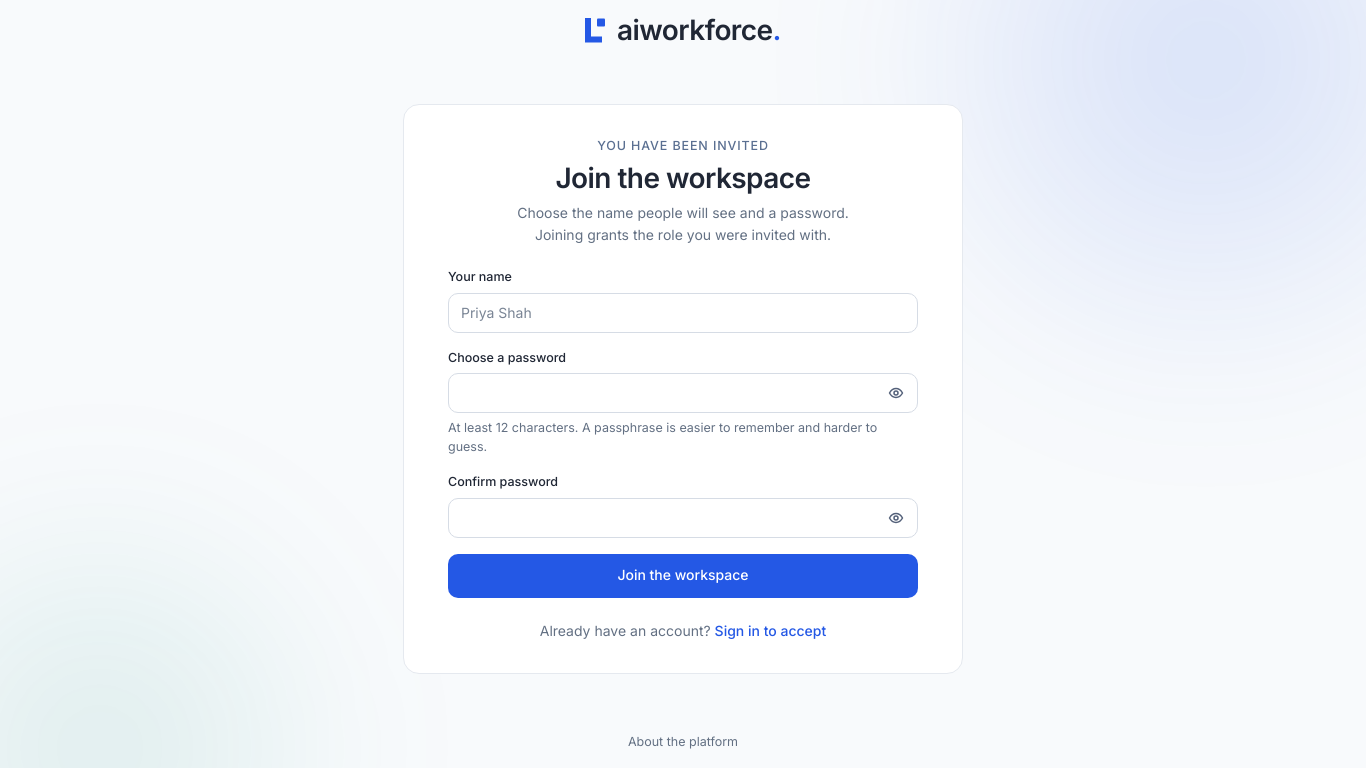
it: AcceptInvite › shows the withdrawn message for a revoked invitation
Type "Rita Returning" into the field labelled "Your name" at point(683, 312), box [448,292,918,332]
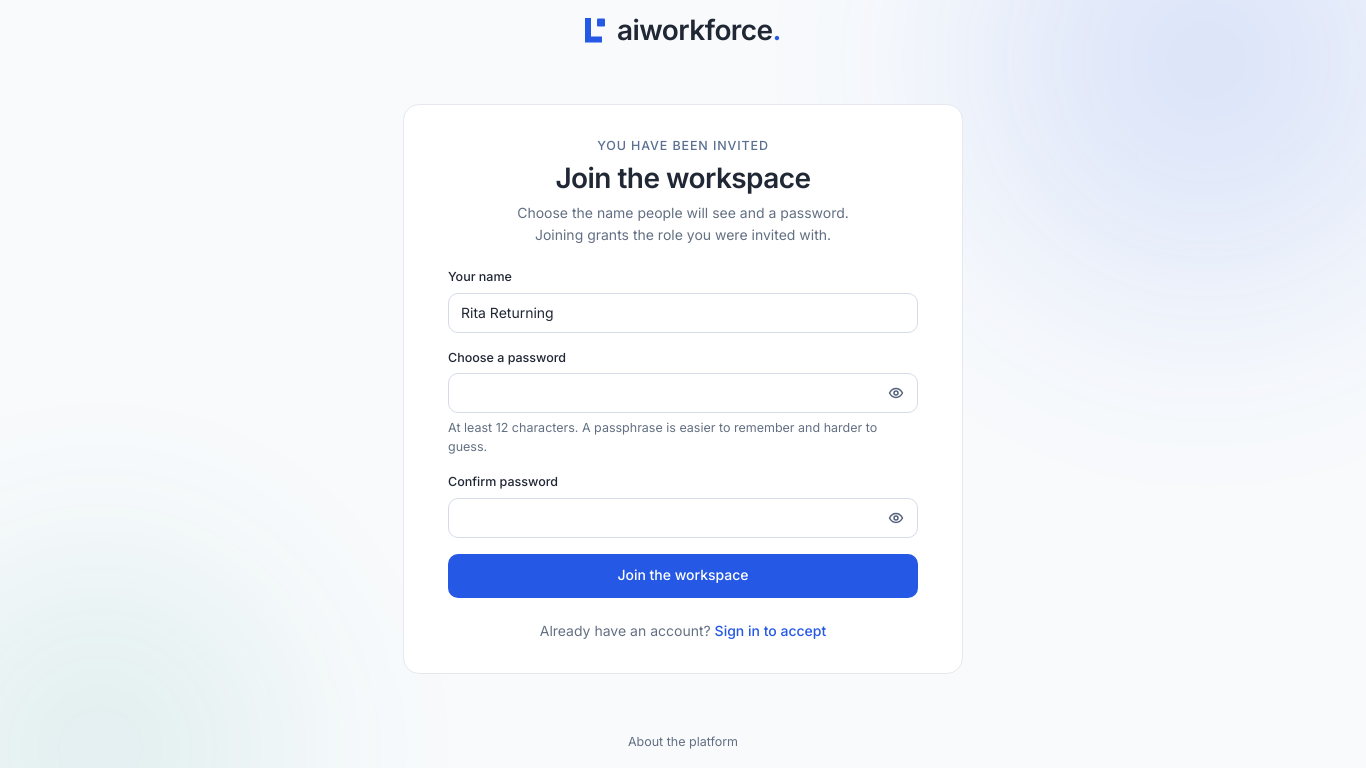
Type "correct horse battery" into the password field labelled "Choose a password" at point(683, 393), box [448,373,918,413]
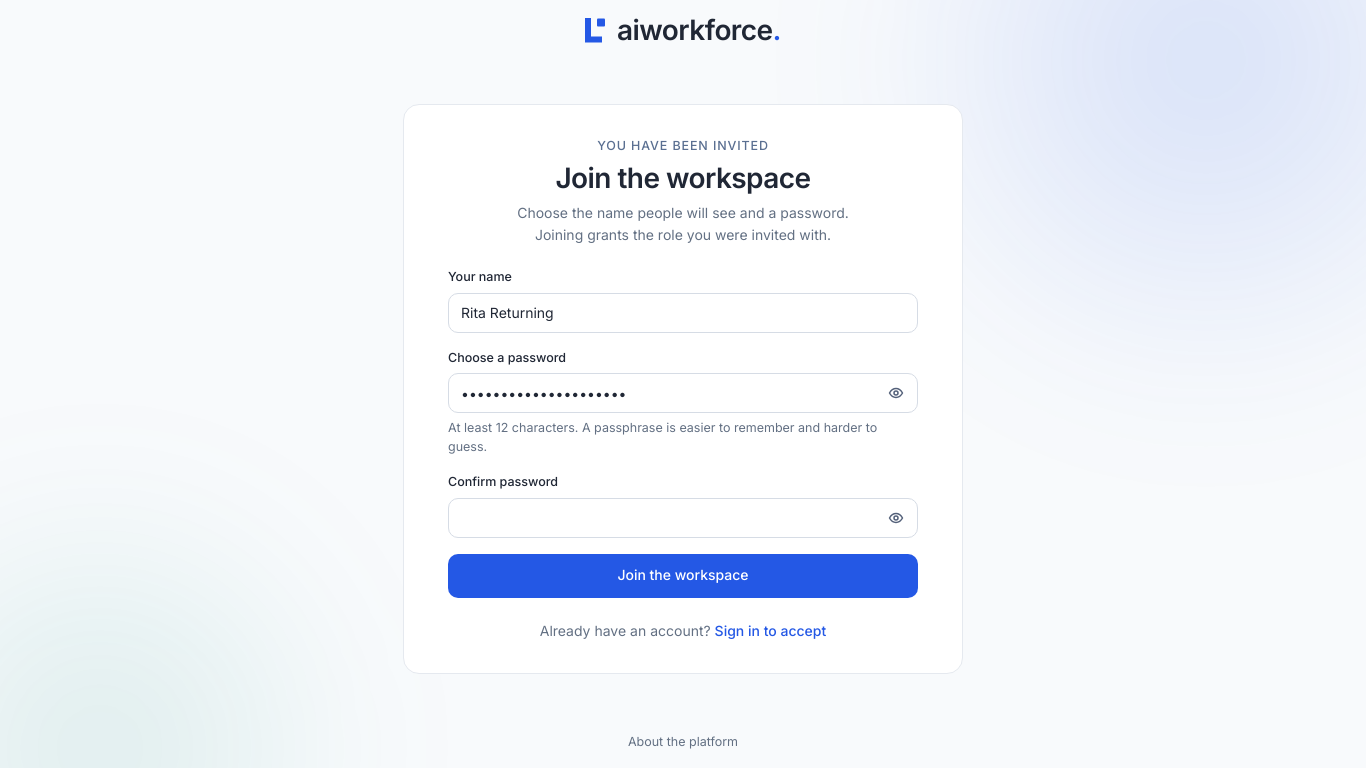
Type "correct horse battery" into the password field labelled "Confirm password" at point(683, 518), box [448,498,918,538]
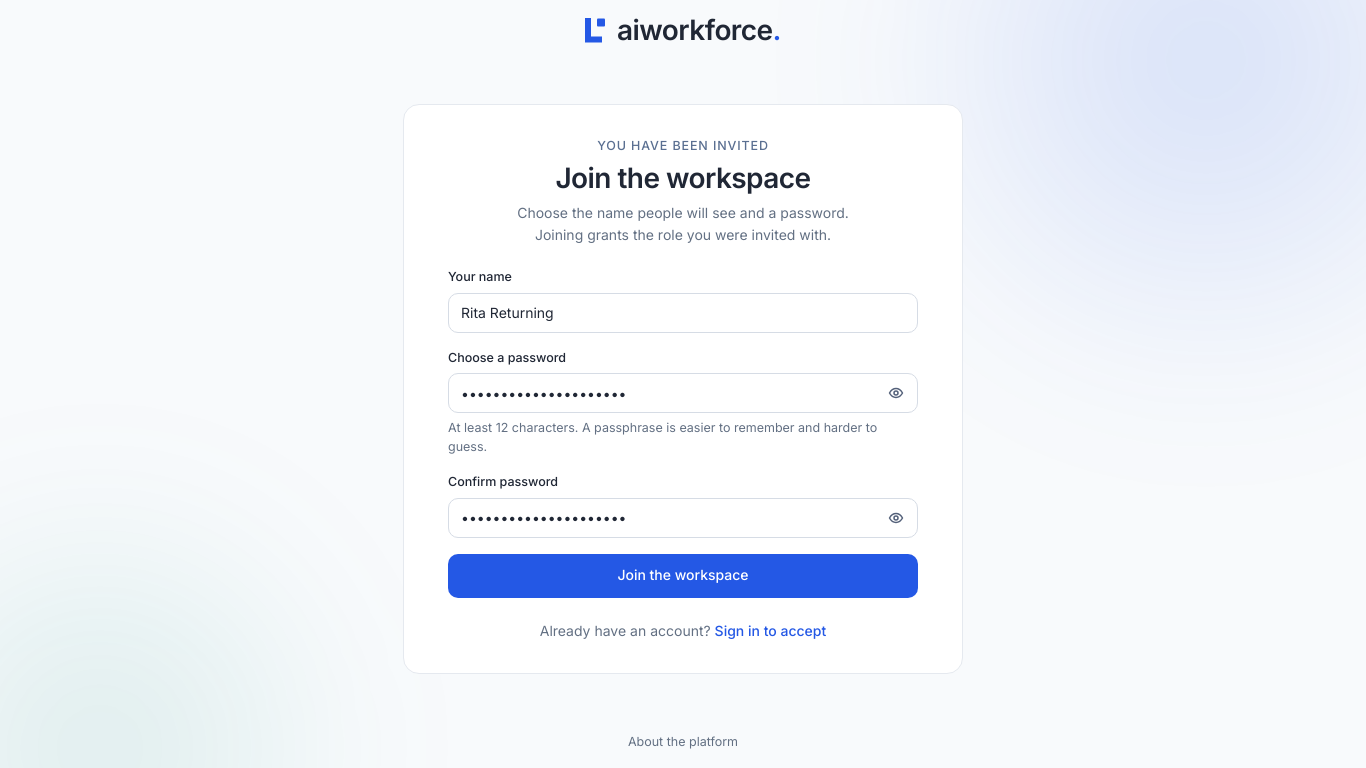
Click the button "Join the workspace" at point(683, 576), box [448,554,918,598]
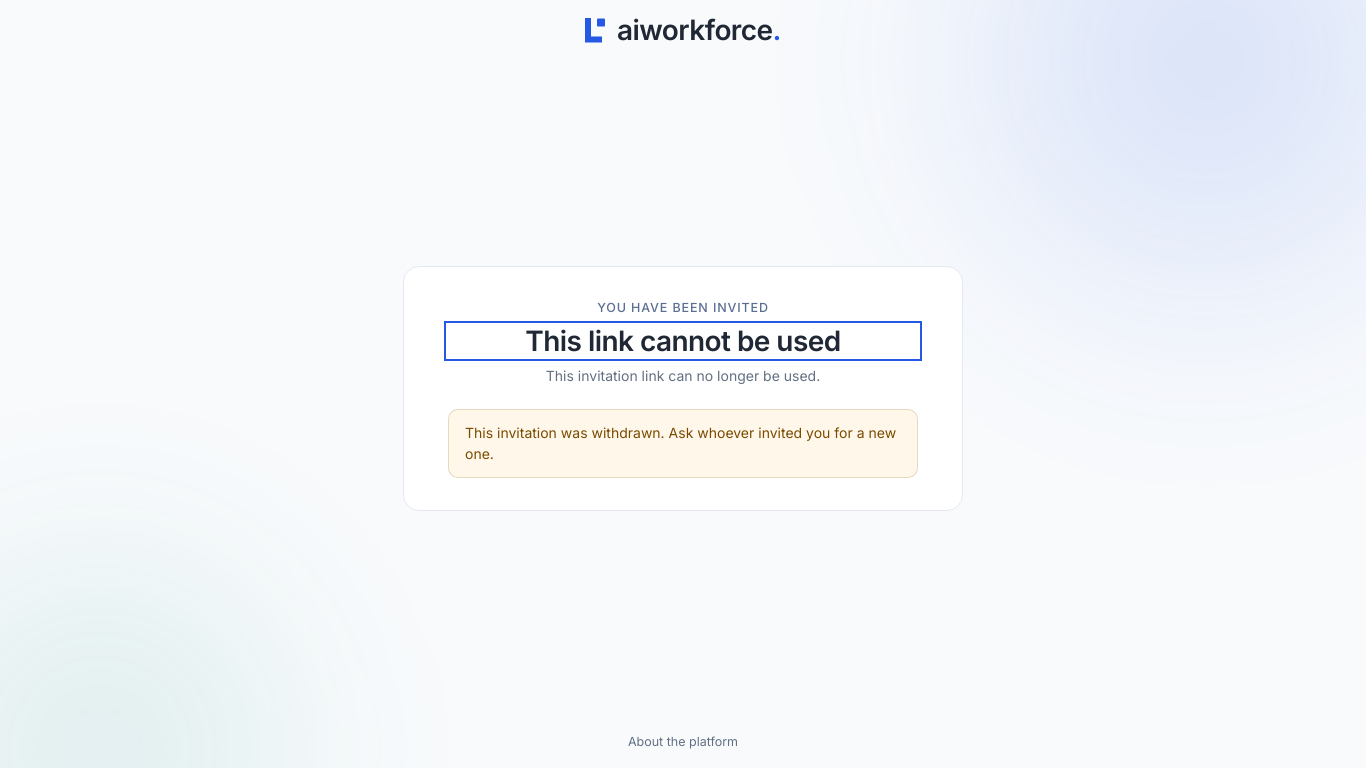
Result: the text "This invitation was withdrawn" is shown at [465,424,896,462]
Result: the heading "This link cannot be used" is shown at [525,324,841,358]
Result: the label labelled "Your name" is gone
